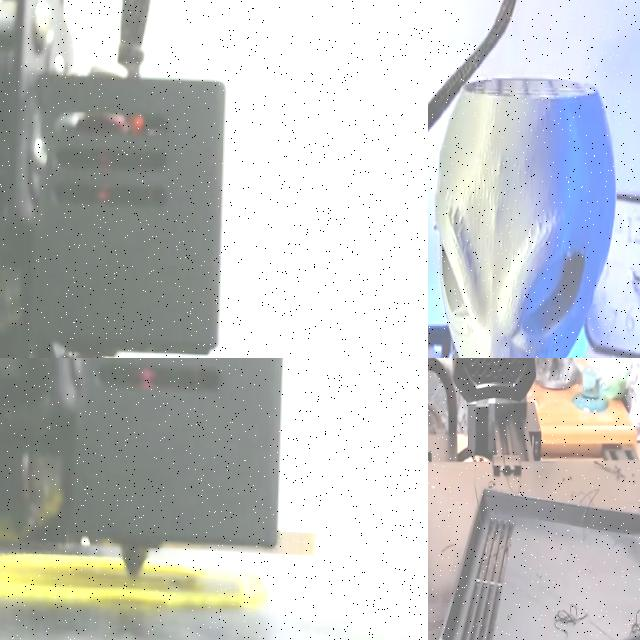spaghetti: (591, 449, 640, 492), (552, 595, 588, 640), (625, 608, 640, 639), (483, 468, 497, 488)
